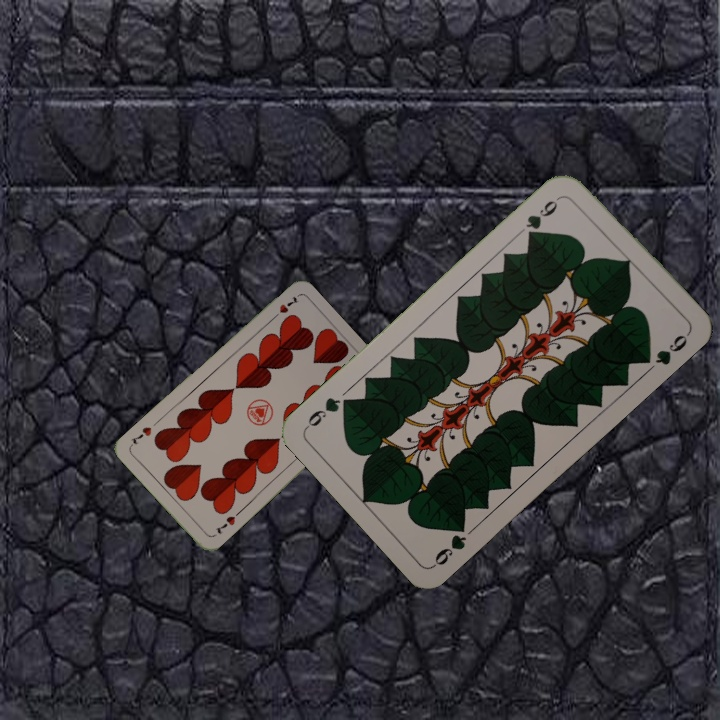G9: (521, 191, 565, 241), (429, 517, 470, 570)
H7: (267, 293, 302, 323), (211, 512, 238, 537)
